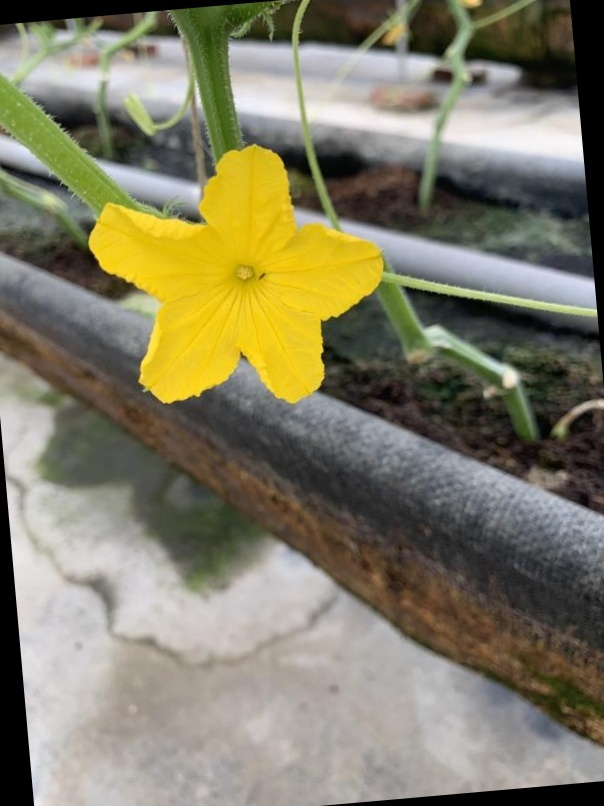flowering: (92, 146, 394, 409)
